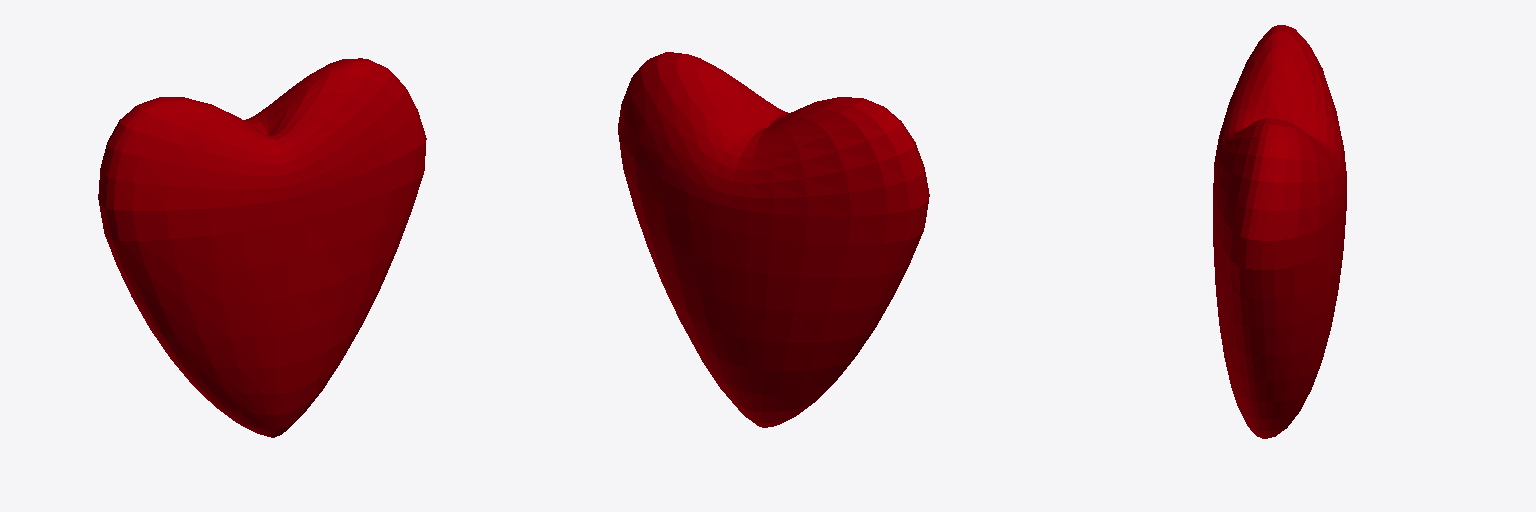
File: heart.obj
3 renders of one model, left to right at view 1: azimuth 30°, elevation 25°; view 2: azimuth 150°, elevation 25°; view 3: azimuth 270°, elevation 25°, orthographic.
Visible parts, largest first — view 1: SurfSphere; view 2: SurfSphere; view 3: SurfSphere.
Boxes of the visible parts, x1=… form: SurfSphere: x1=98, y1=58, x2=426, y2=437; SurfSphere: x1=618, y1=52, x2=929, y2=427; SurfSphere: x1=1213, y1=25, x2=1346, y2=438.
Bounding box in the file's own units: 2.91 × 3.2 × 1.09.